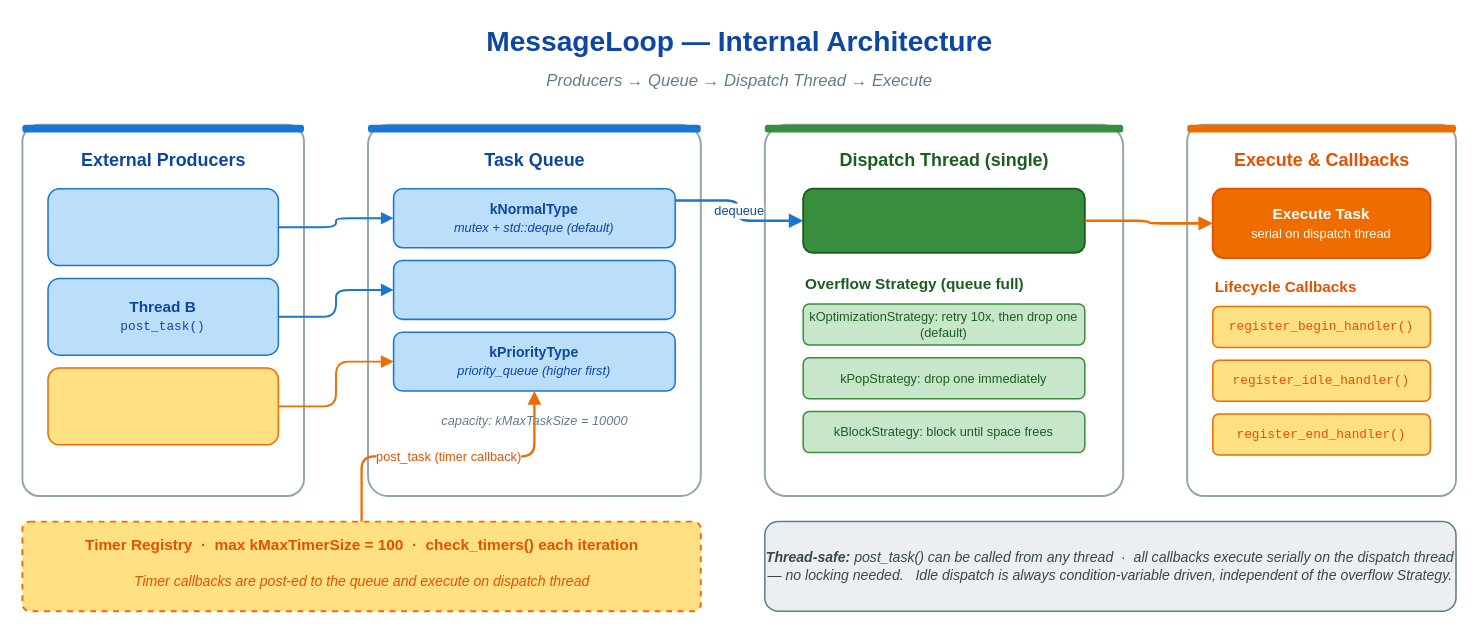
This 1480x634 diagram has some shape labels left out. The box of each missing label's shape, as (x1, y1, x2, y2) in pixels:
Dispatch Loop: (802, 187, 1085, 253)
kLockfreeType MPMC lock-free queue: (392, 259, 675, 319)
Thread A post_task(): (47, 187, 279, 266)
Timer fires on interval: (47, 367, 279, 445)
